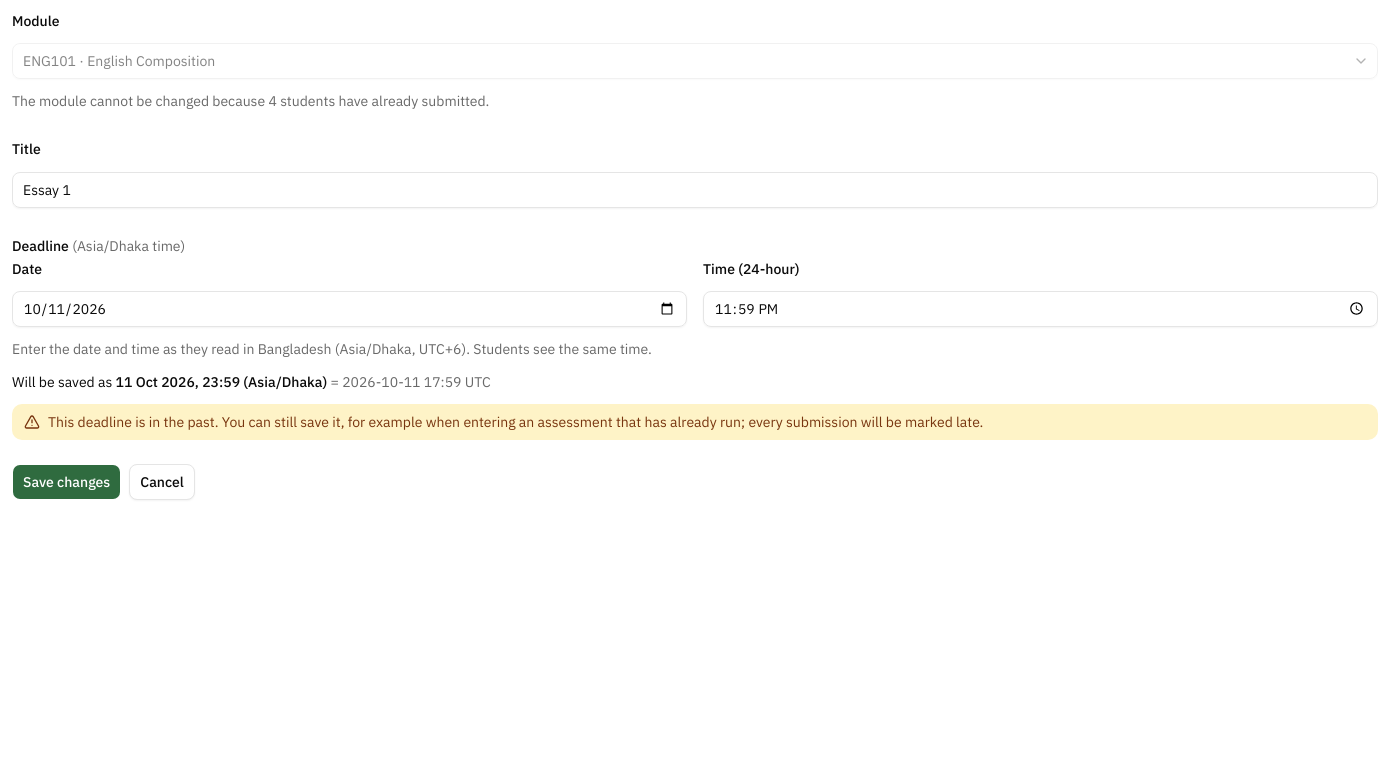
it: edit assessment form › warns that late flags will be recalculated when the deadline changes and students have submitted
Expected: the text "recalculates which of the 4 submissions" is not shown
Replace the text in the time field labelled "Time (24-hour)" with "12:00": (1040, 309) [703,291,1378,327]
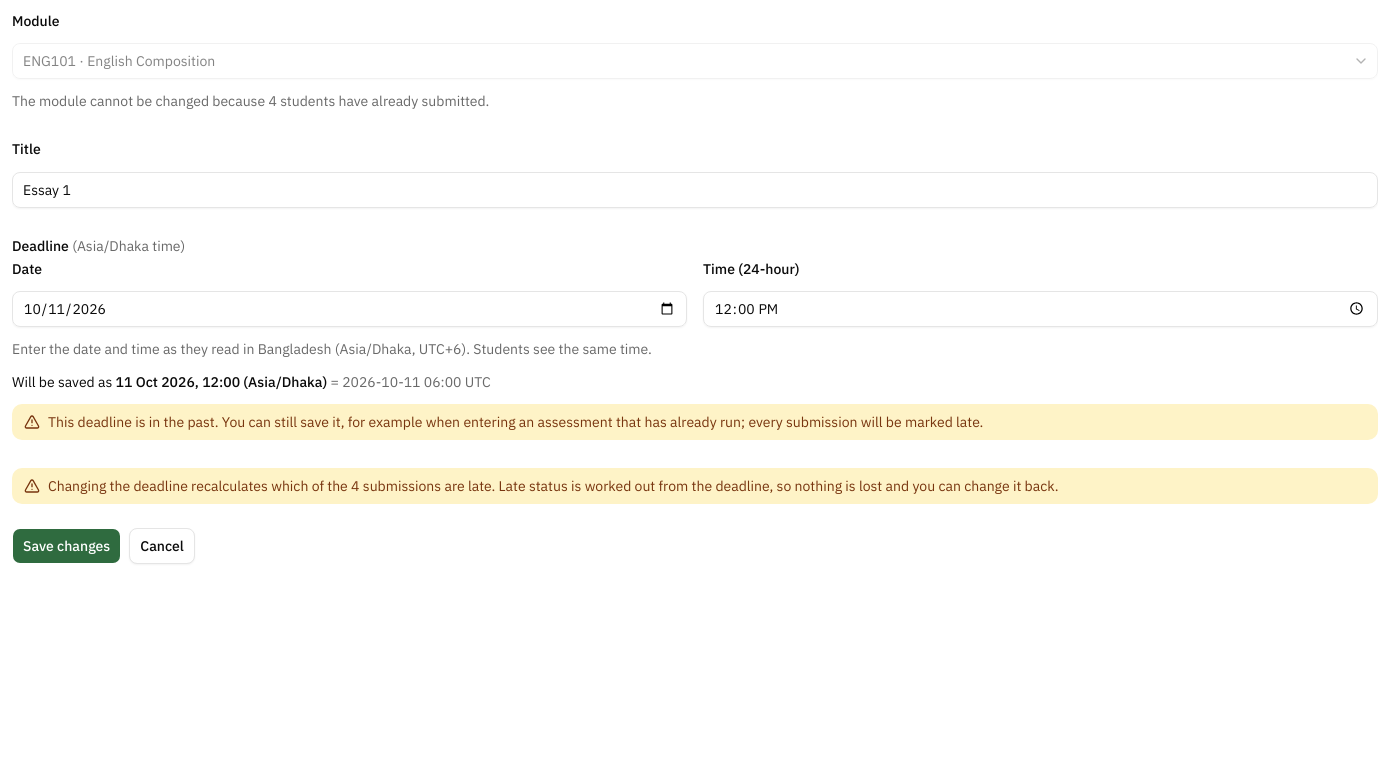
Result: the text "recalculates which of the 4 submissions are late" is shown at [48,476,1058,496]
